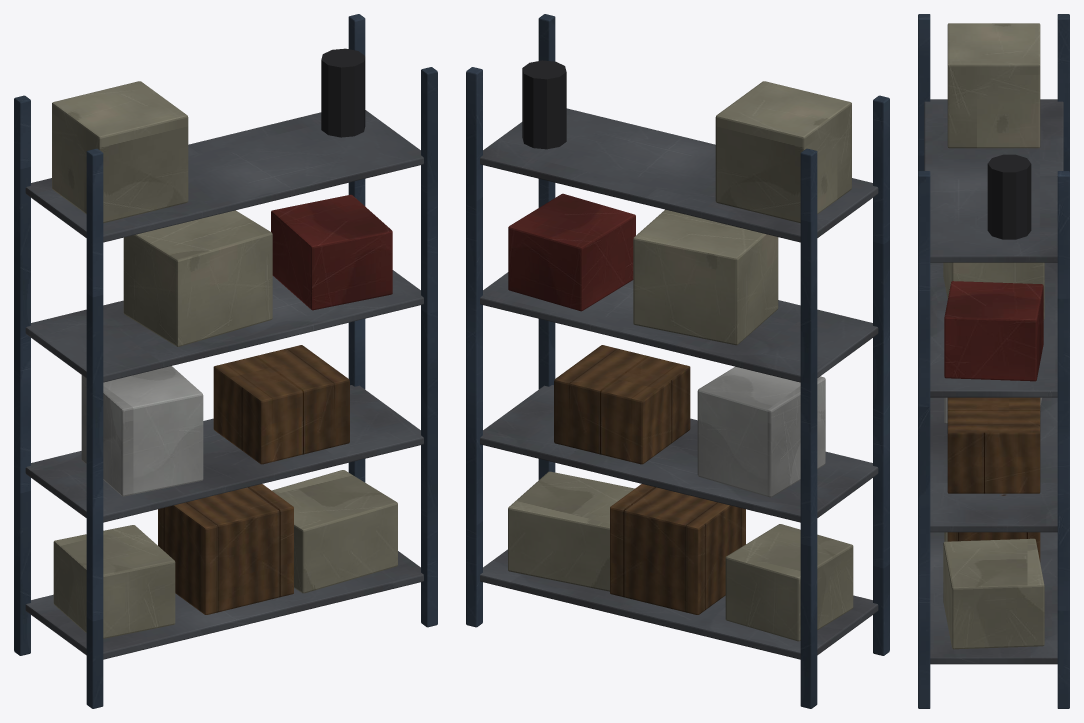
The model's file is fallen_shelf.glb.
The picture shows the model from 3 angles, left to right: view 1: azimuth 30°, elevation 25°; view 2: azimuth 150°, elevation 25°; view 3: azimuth 270°, elevation 25°; orthographic projection. The views are drawn at different scales.
Visible parts, largest first — view 1: body; view 2: body; view 3: body.
Boxes of the visible parts, x1,y1,x2,y2 form: body: (14,14,437,708); body: (466,14,889,708); body: (918,14,1069,708).
Bounding box in the file's own units: 1.24 × 1.9 × 0.49.
7 materials, 7 textured.
